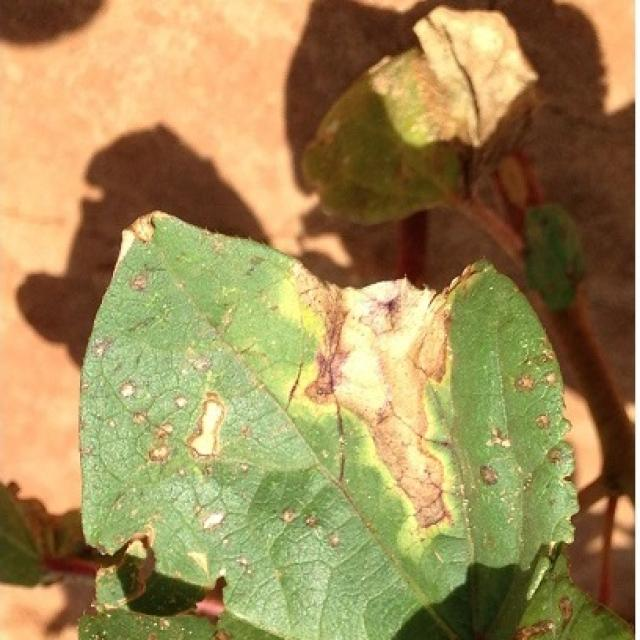Fusarium Wilt: (77, 209, 588, 640)
